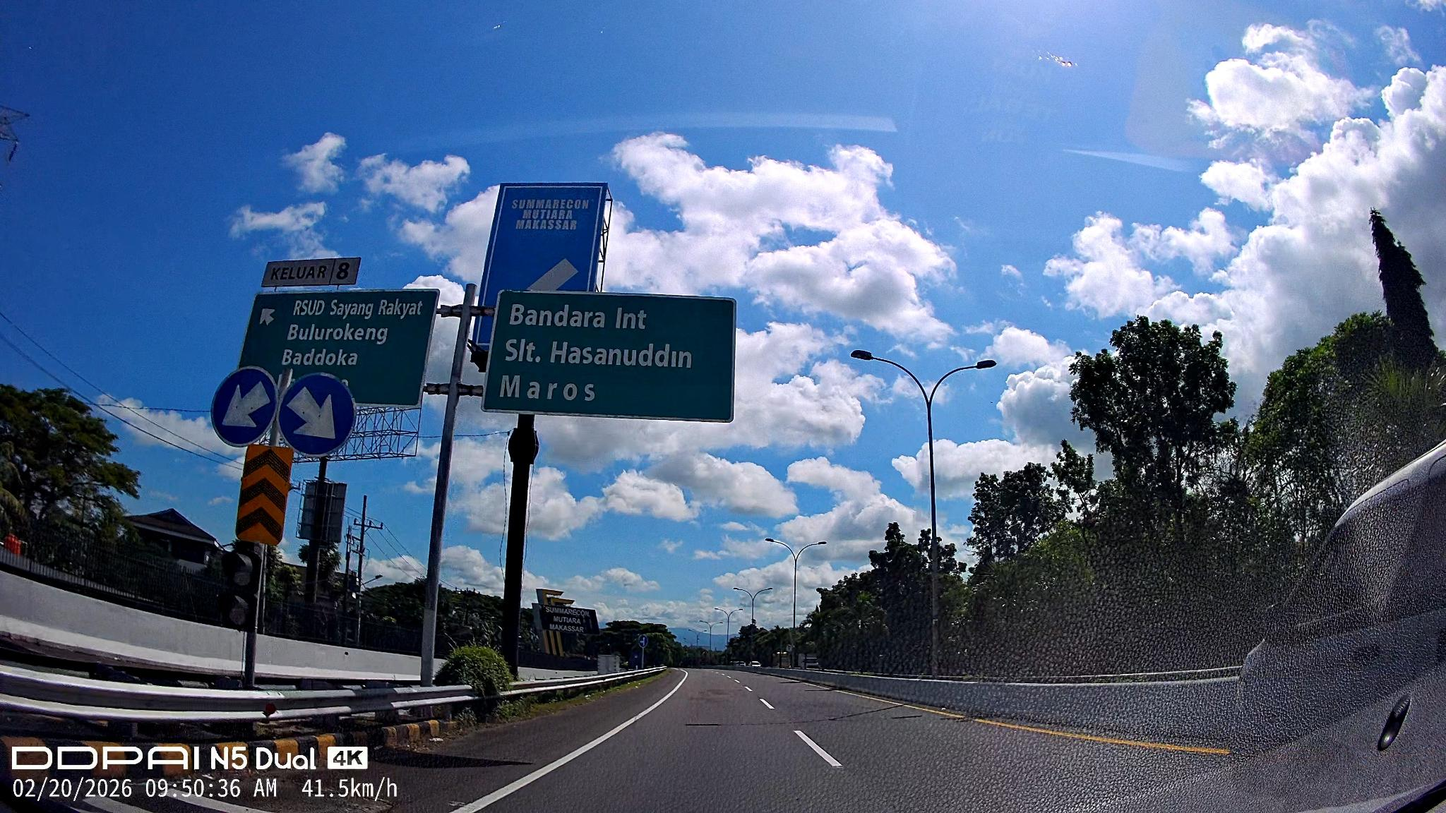rambu_teks: (480, 287, 738, 425), (225, 288, 442, 369)
